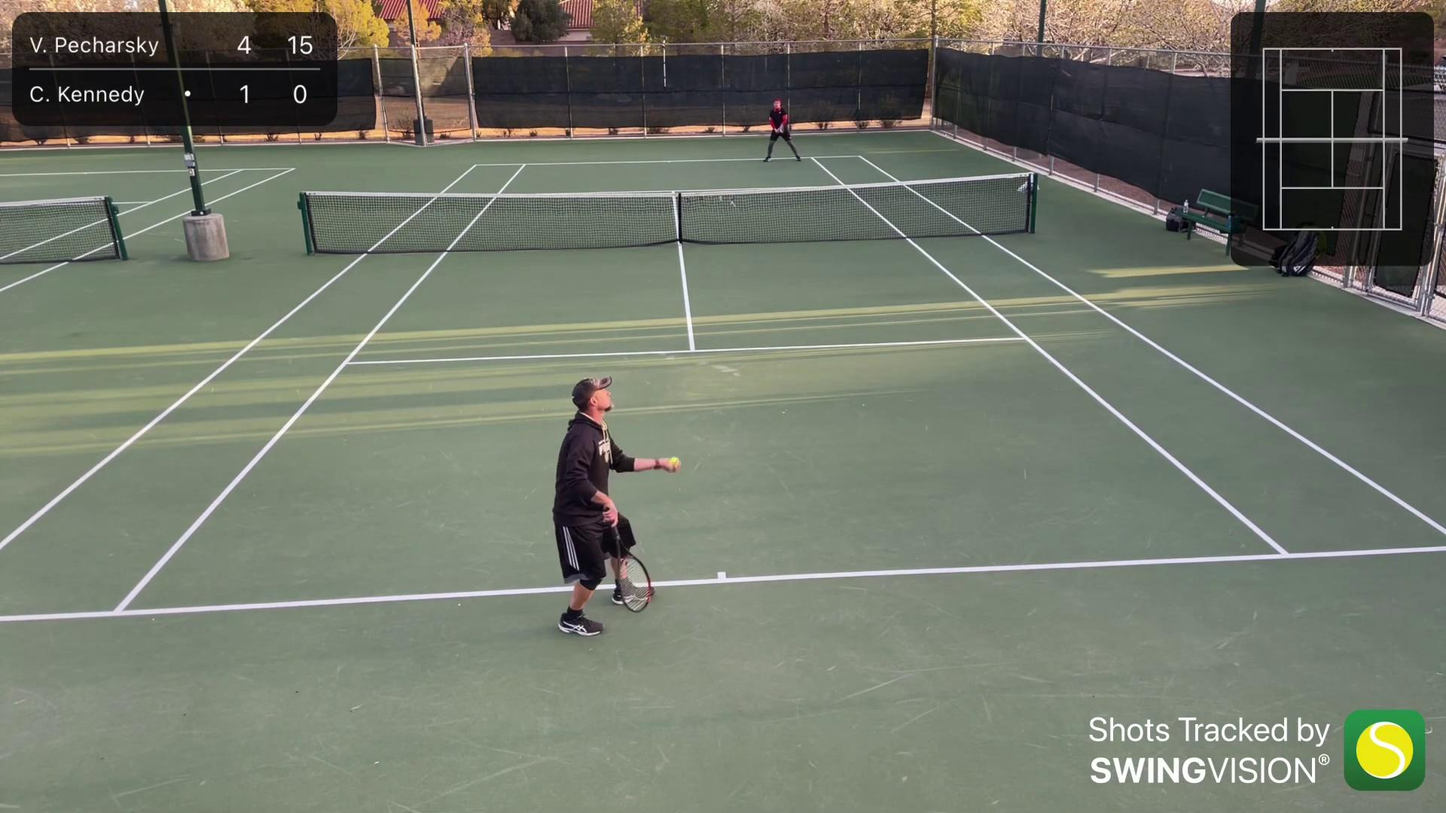ball: (665, 456, 682, 466)
